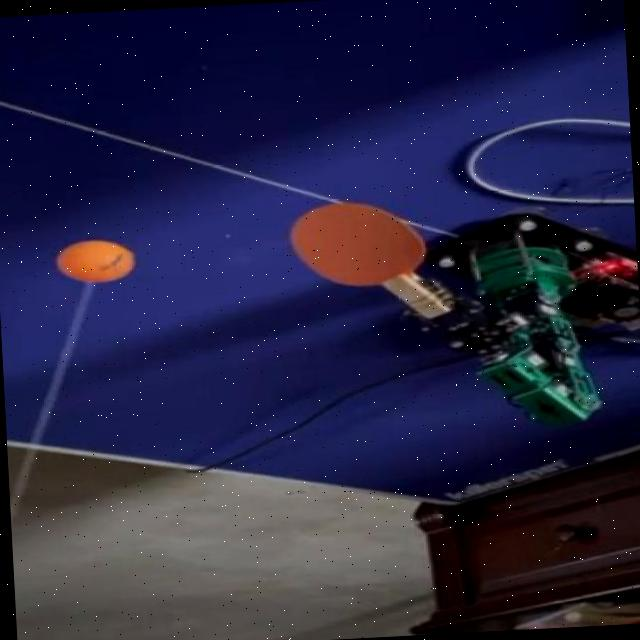ping-pong-ball: (52, 237, 136, 280)
